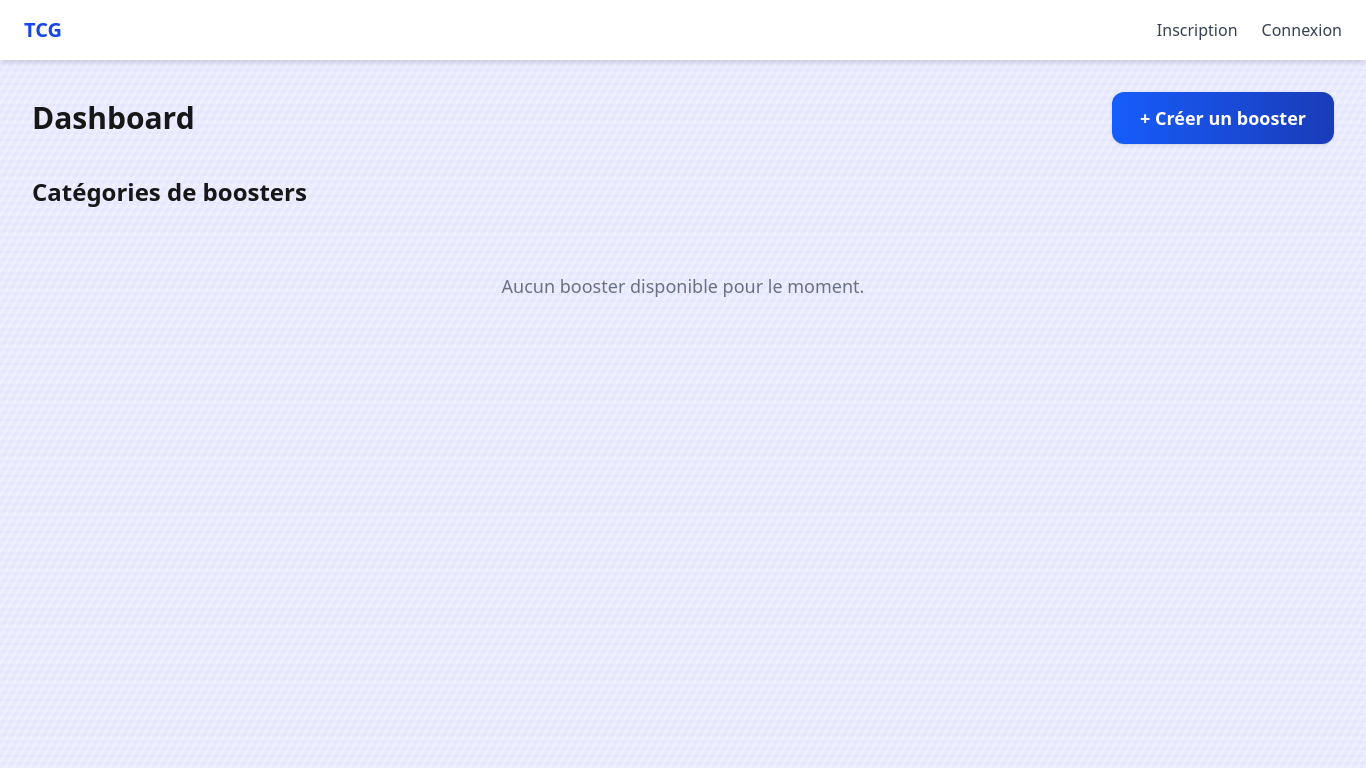
it: DashboardPage › ouvre la modal de création
Click the button "+ Créer un booster". click: (1223, 118)
box: [1112,92,1334,144]
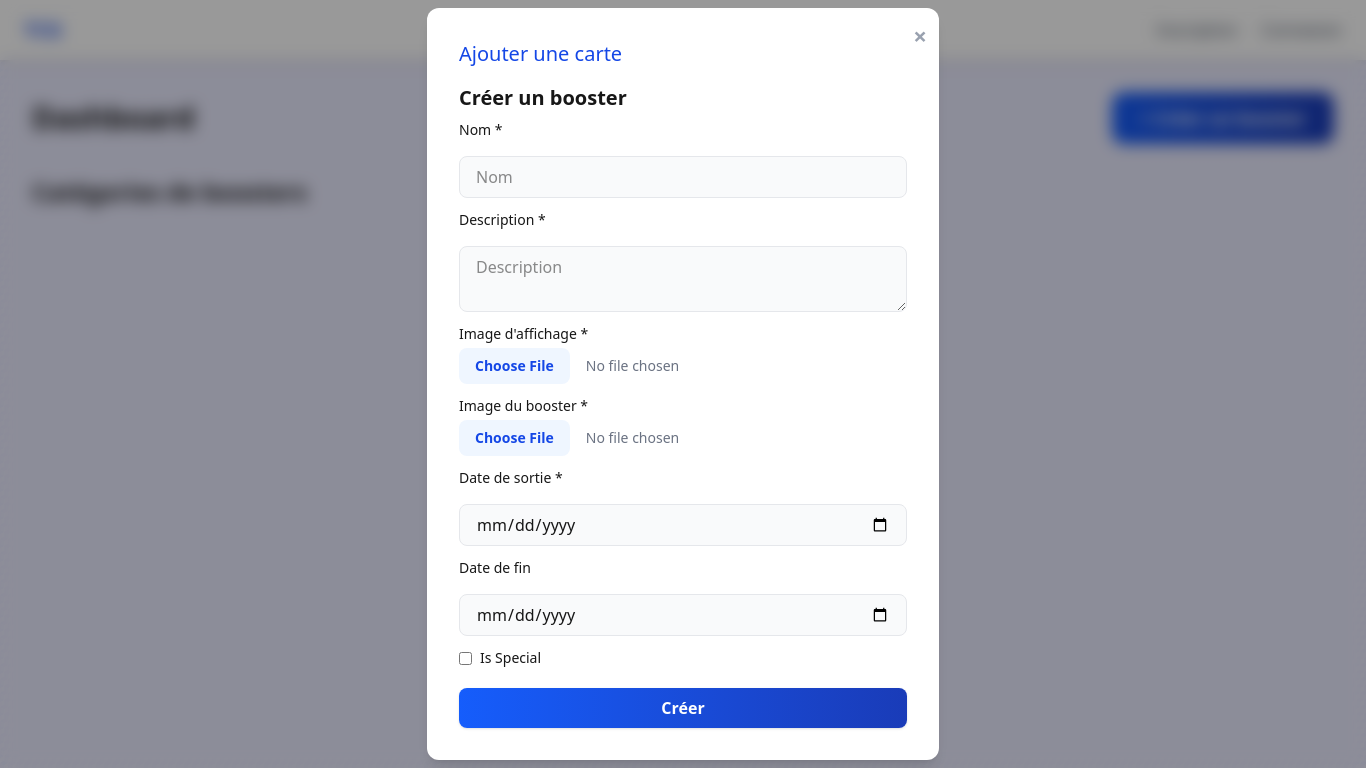
Now the heading "Créer un booster" is shown, box [459,84,627,111]
Now the field labelled "Nom *" is shown, box [459,156,907,198]
